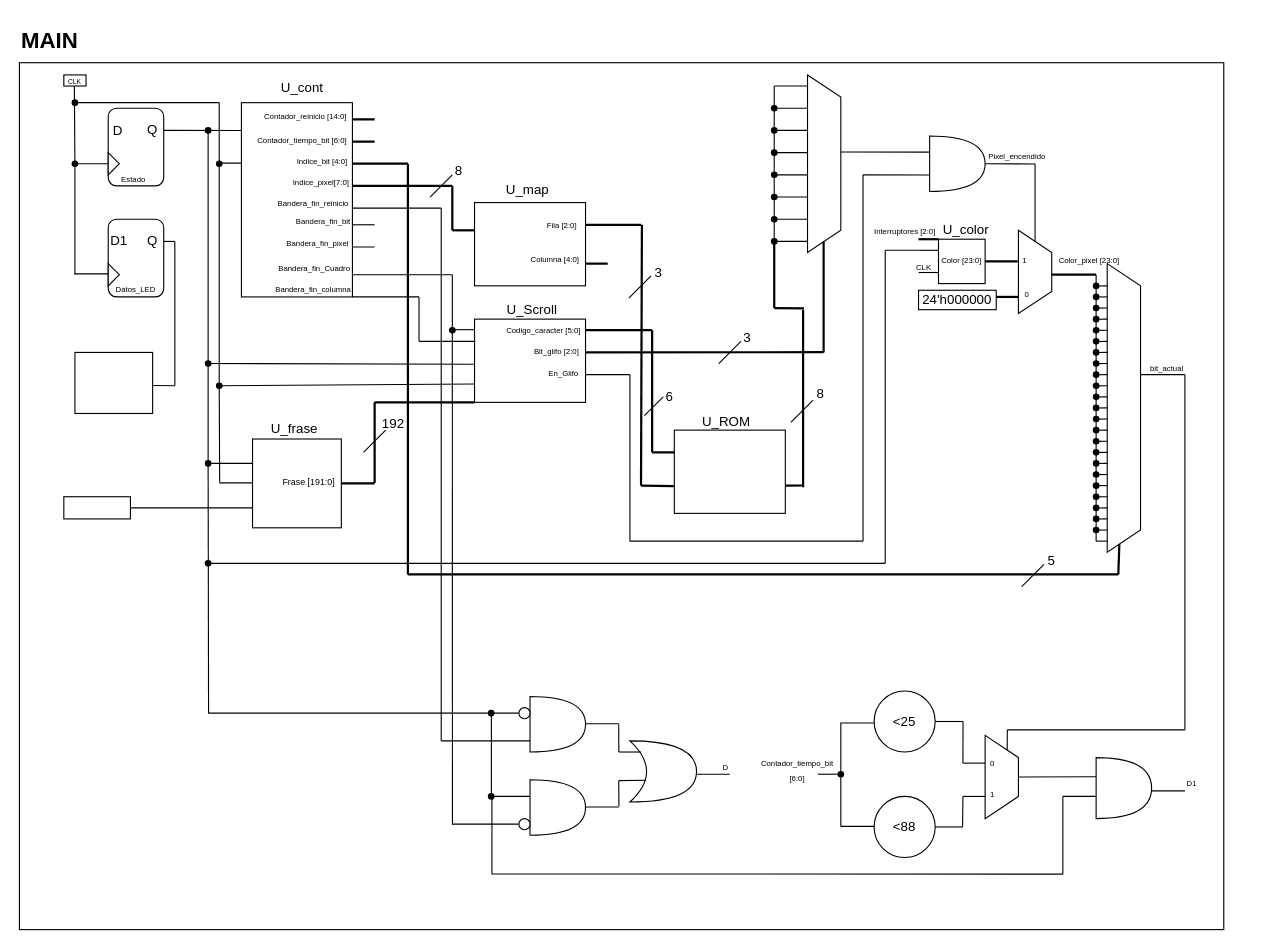
This 1282x949 diagram has some shape labels left out. The centre of each missing label's shape, as x and y in pixels:
"DIN" goes at (113,382).
"Pixeles [7:0]" goes at (729,471).
"UART_RX" goes at (96,507).
